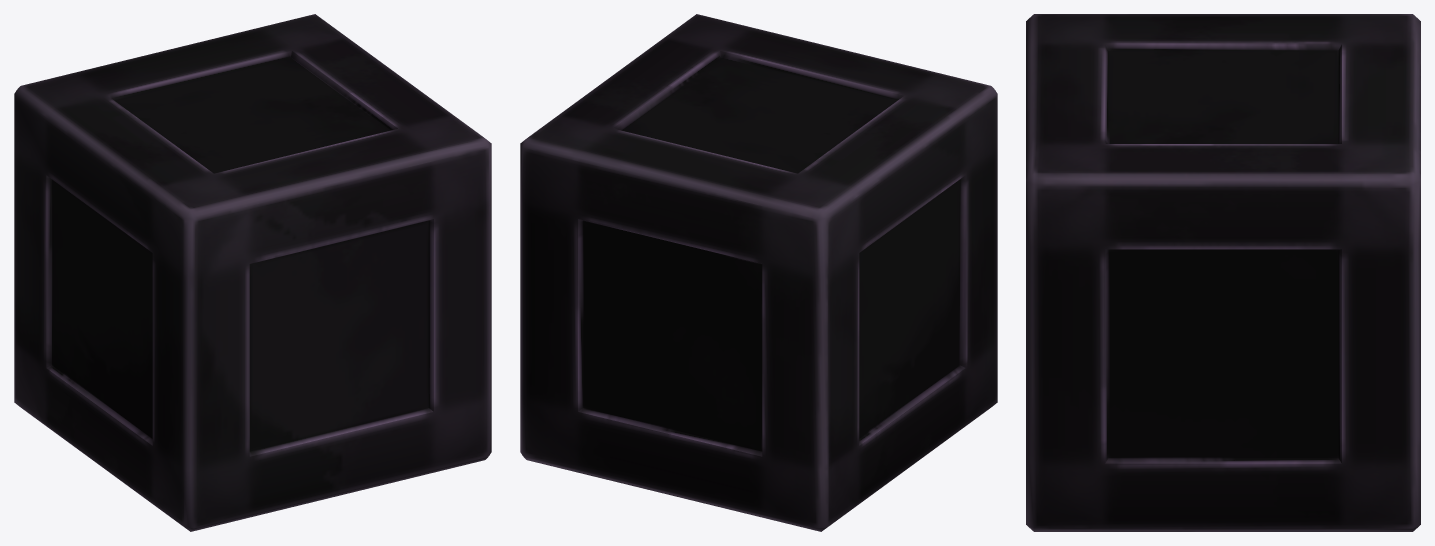
The model's file is Box_Rubble.fbx.
3 views of the same model, side by side, from view 1: azimuth 30°, elevation 25°; view 2: azimuth 150°, elevation 25°; view 3: azimuth 270°, elevation 25° (orthographic). The views are drawn at different scales.
Parts seen in each view (by area): view 1: Box; view 2: Box; view 3: Box.
Boxes of the visible parts, left/top/right/bottom form: Box: left=14, top=14, right=491, bottom=531; Box: left=520, top=14, right=997, bottom=531; Box: left=1026, top=14, right=1420, bottom=531.
Bounding box in the file's own units: 103 × 103 × 103.
